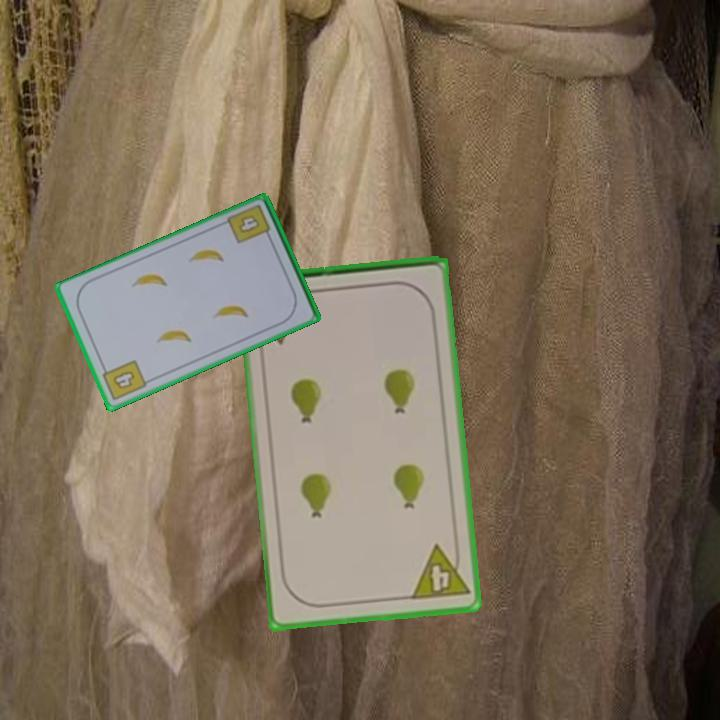4b: (98, 356, 149, 404), (224, 201, 274, 247)
4p: (407, 540, 472, 603)
